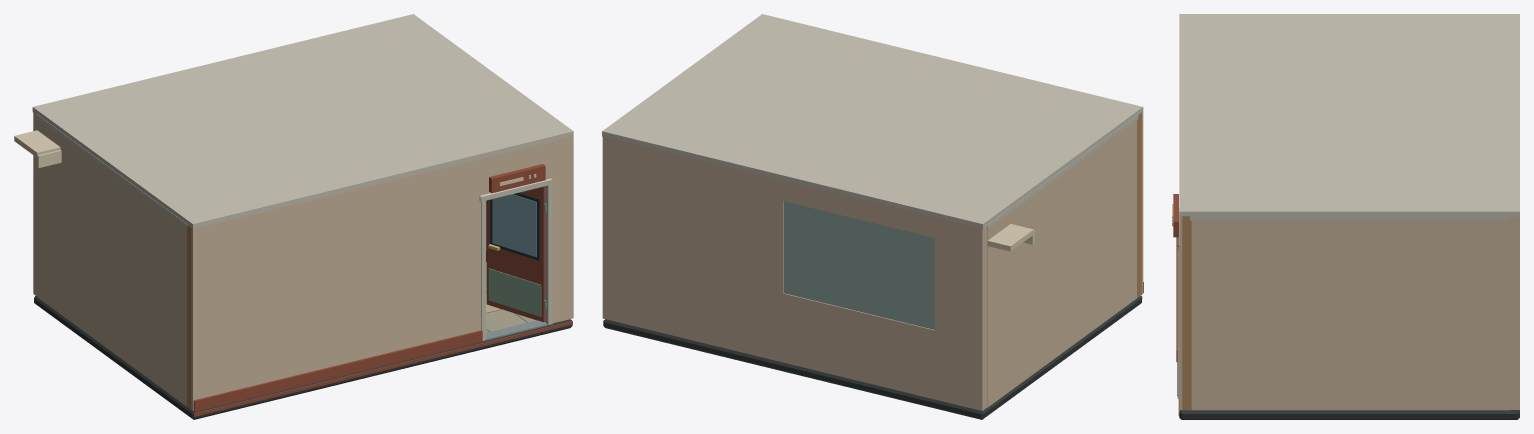
The model's file is shop.glb.
3 renders of one model, left to right at view 1: azimuth 30°, elevation 25°; view 2: azimuth 150°, elevation 25°; view 3: azimuth 270°, elevation 25°, orthographic. The views are drawn at different scales.
Visible parts, largest first — view 1: cutaway_ceiling_room, cutaway_front_room, cutaway_side_left, room_architecture, intact_door, intact_awning; view 2: room_architecture, cutaway_ceiling_room, cutaway_side_left, intact_awning; view 3: cutaway_ceiling_room, cutaway_side_right, room_architecture, cutaway_front_room.
Boxes of the visible parts, x1,y1,x2,y2 form: cutaway_ceiling_room: [32, 14, 573, 229]; cutaway_front_room: [191, 136, 573, 411]; cutaway_side_left: [37, 114, 191, 409]; room_architecture: [33, 113, 572, 419]; intact_door: [486, 186, 546, 322]; intact_awning: [14, 130, 61, 168]; room_architecture: [602, 136, 1142, 419]; cutaway_ceiling_room: [602, 14, 1143, 229]; cutaway_side_left: [987, 112, 1141, 407]; intact_awning: [987, 224, 1034, 251]; cutaway_ceiling_room: [1179, 14, 1519, 217]; cutaway_side_right: [1182, 216, 1509, 410]; room_architecture: [1172, 194, 1519, 419]; cutaway_front_room: [1176, 216, 1182, 410].
Size of what is drawn, in the model's own units: 7.05 by 3.28 by 4.94.
